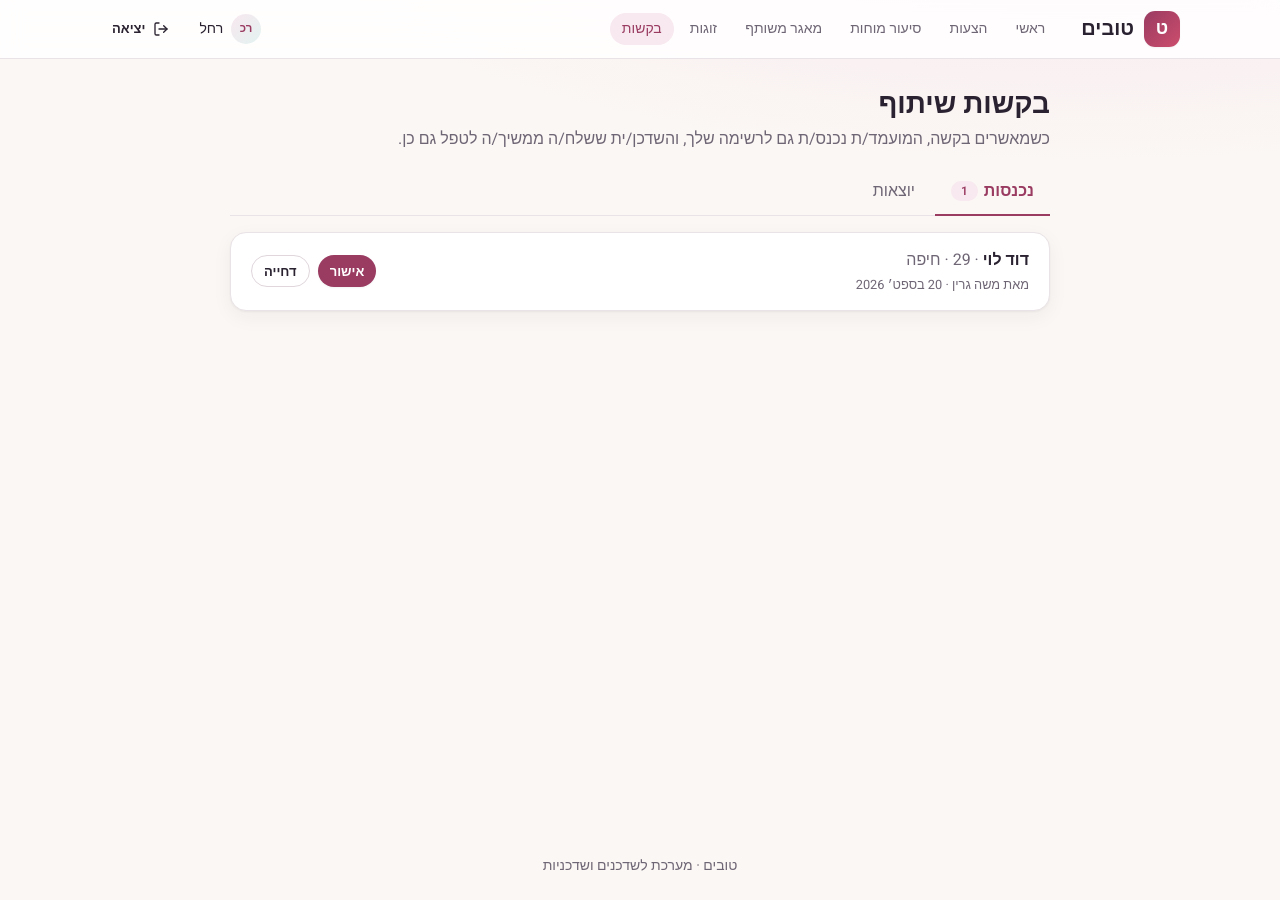
Test: transfer requests › approving says the sender keeps handling the single, and shows the request as approved
This screenshot has width=1280, height=900.
expect the text "השדכן/ית ששלח/ה ממשיך/ה לטפל גם כן" is shown: met, box [398,127,1050,151]
Click the button "אישור" at (347, 271), box [318,255,376,287]
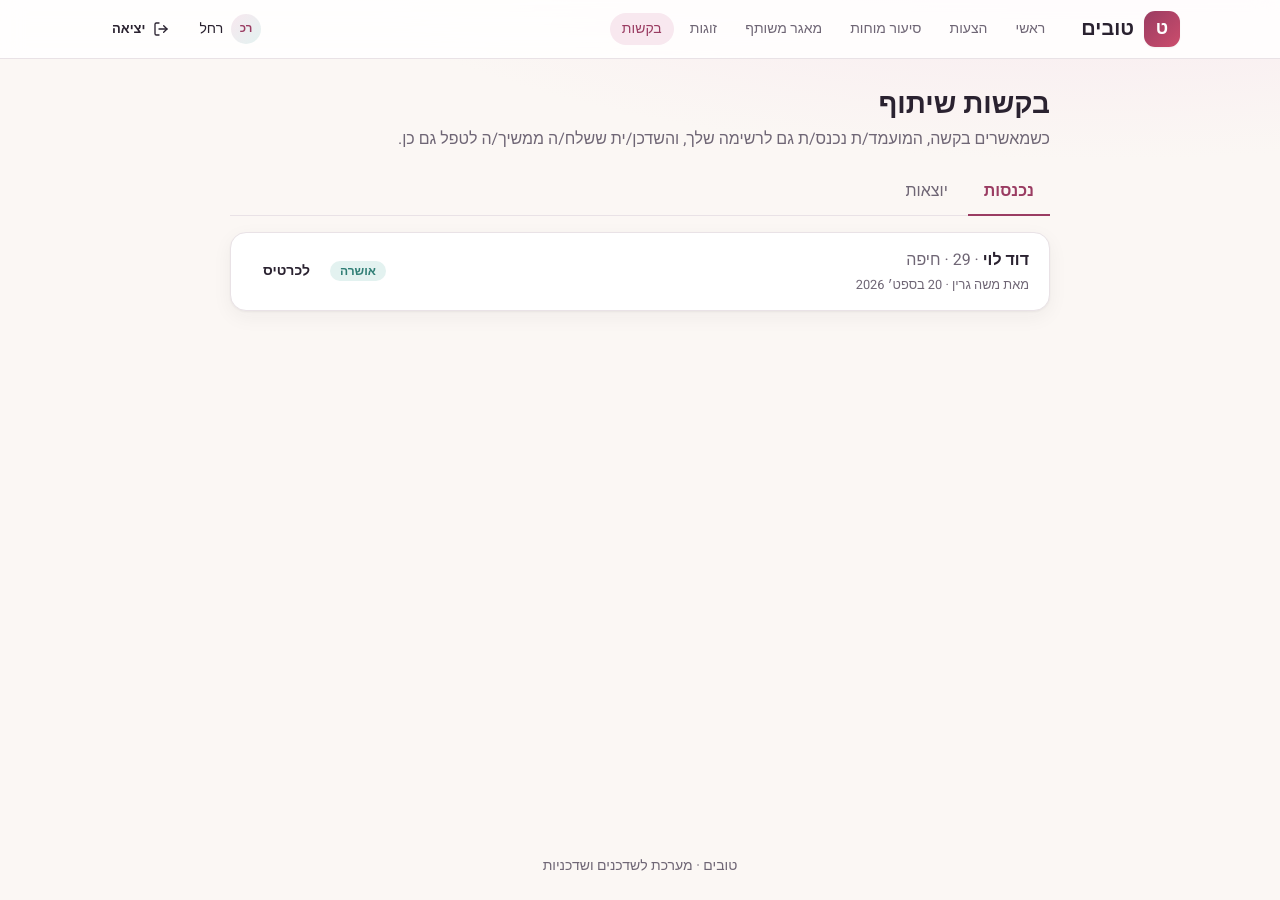
expect the text "אושרה" is shown: met, box [330,261,386,281]
